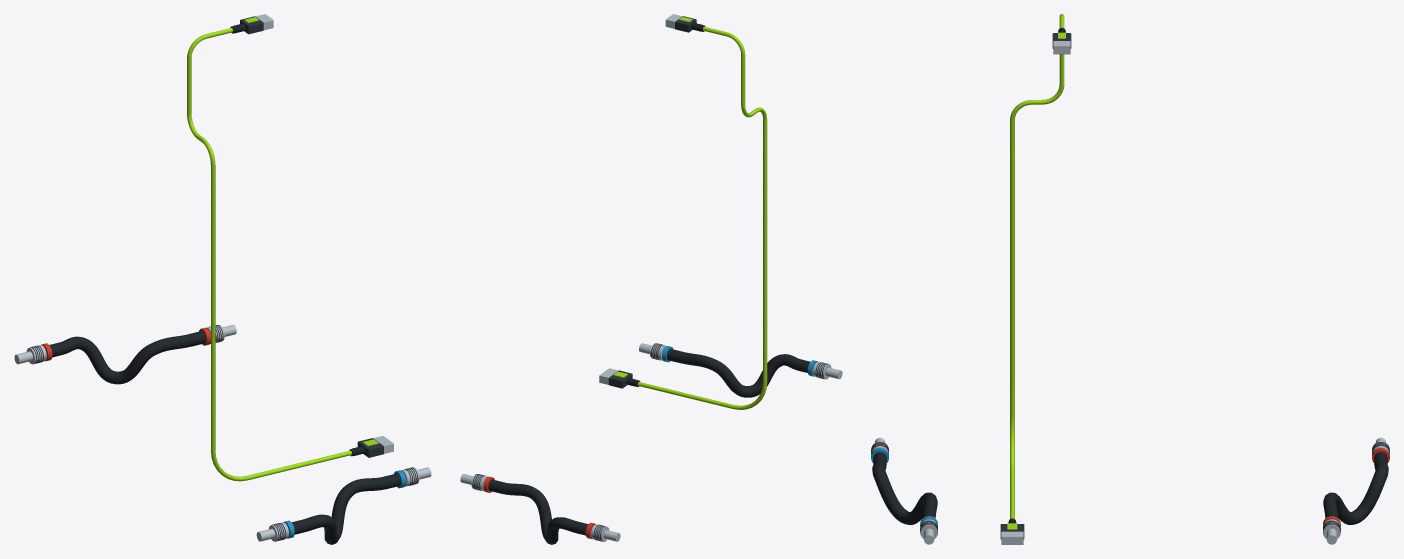
Rendered from SM_GJ_Harness_12.fbx.
3 renders of one model, left to right at view 1: azimuth 30°, elevation 25°; view 2: azimuth 150°, elevation 25°; view 3: azimuth 270°, elevation 25°, orthographic. The views are drawn at different scales.
Visible parts, largest first — view 1: SM_GJ_Harness_12; view 2: SM_GJ_Harness_12; view 3: SM_GJ_Harness_12.
Boxes of the visible parts, x1,y1,x2,y2 form: SM_GJ_Harness_12: [14, 14, 431, 544]; SM_GJ_Harness_12: [460, 14, 842, 544]; SM_GJ_Harness_12: [871, 14, 1389, 544].
Bounding box in the file's own units: 22.6 × 50.76 × 52.37.
